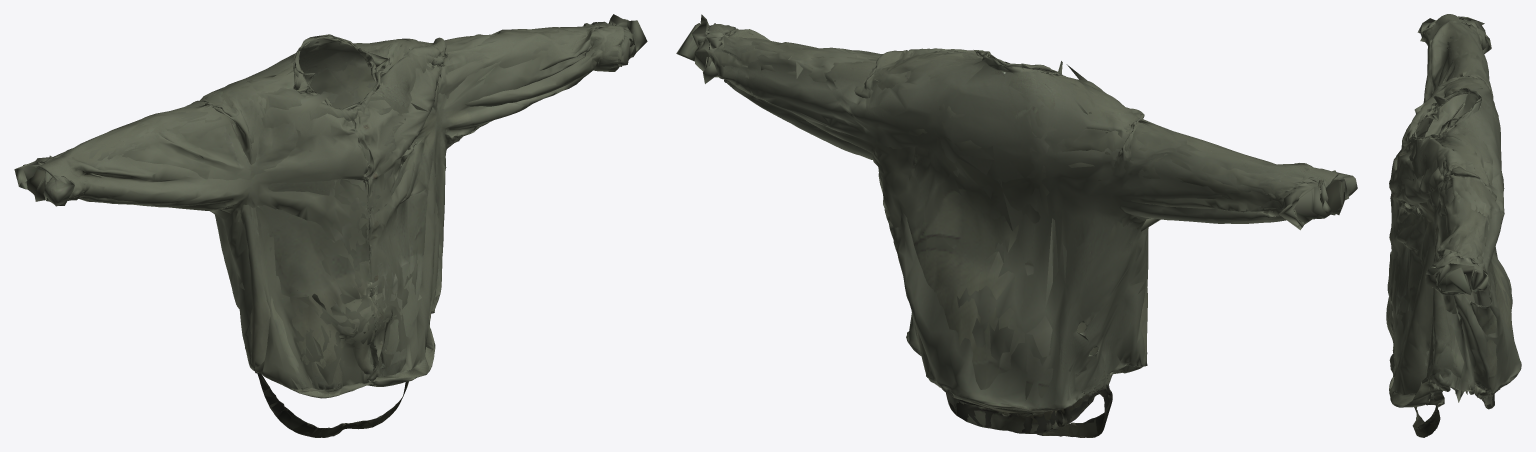
The model's file is 4608bcb4-ddae-42fb-906e-c11192ed2901.glb.
3 views of the same model, side by side, from view 1: azimuth 30°, elevation 25°; view 2: azimuth 150°, elevation 25°; view 3: azimuth 270°, elevation 25° (orthographic). The views are drawn at different scales.
Visible parts, largest first — view 1: Mesh_0.001; view 2: Mesh_0.001; view 3: Mesh_0.001.
Boxes of the visible parts, <box> form: Mesh_0.001: <box>14,14,647,437</box>; Mesh_0.001: <box>676,14,1357,437</box>; Mesh_0.001: <box>1386,14,1521,437</box>.
Bounding box in the file's own units: 1.82 × 1.05 × 0.3925.
1 material, 1 textured.
